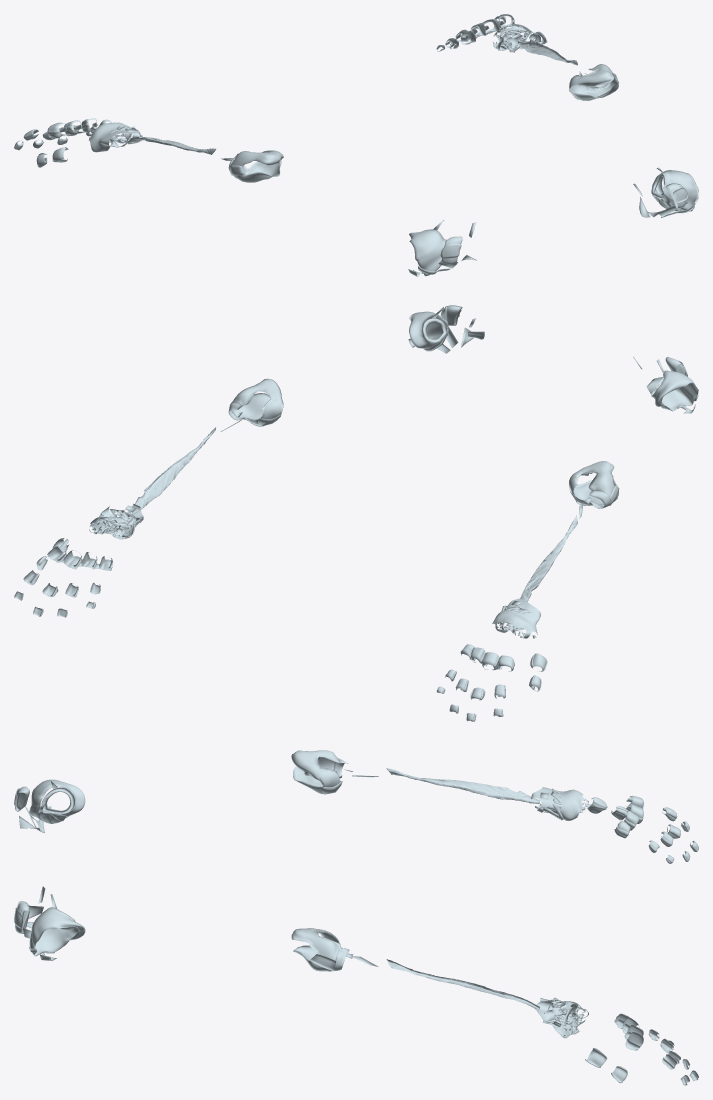
The model's file is upperlimb__joints.4c8dc72ed6.glb.
The picture shows the model from 3 angles, top to bottom: view 1: azimuth 30°, elevation 25°; view 2: azimuth 150°, elevation 25°; view 3: azimuth 270°, elevation 25°; orthographic projection. The views are drawn at different scales.
Visible parts, largest first — view 1: Z00164, Z00165, Z00167, Z00166, Z00175, Z00187, Z00186, Z00982; view 2: Z00164, Z00165, Z00167, Z00982, Z00175, Z00166, Z00187, Z00983, Z00186; view 3: Z00166, Z00165, Z00164, Z00983, Z00175, Z00167, Z00982, Z00186, Z00174, Z00187.
Part boxes in pixels (x1,y1,x2,y2): Z00164: [569, 64, 618, 100]; Z00165: [231, 150, 283, 182]; Z00167: [409, 229, 446, 276]; Z00166: [652, 170, 698, 211]; Z00175: [89, 122, 141, 152]; Z00187: [47, 118, 111, 162]; Z00186: [461, 14, 546, 44]; Z00982: [519, 41, 577, 65]; Z00164: [231, 378, 283, 424]; Z00165: [569, 461, 618, 506]; Z00167: [651, 370, 698, 410]; Z00982: [130, 427, 216, 514]; Z00175: [492, 598, 540, 638]; Z00166: [409, 311, 448, 351]; Z00187: [461, 644, 546, 671]; Z00983: [520, 515, 577, 601]; Z00186: [47, 538, 112, 570]; Z00166: [29, 907, 85, 956]; Z00165: [291, 750, 341, 794]; Z00164: [291, 928, 341, 971]; Z00983: [386, 768, 539, 803]; Z00175: [531, 787, 588, 820]; Z00167: [29, 779, 85, 823]; Z00982: [386, 959, 539, 1009]; Z00186: [586, 1013, 643, 1067]; Z00174: [535, 998, 588, 1038]; Z00187: [587, 795, 643, 838].
Bounding box in the file's own units: 641 × 145 × 696.
